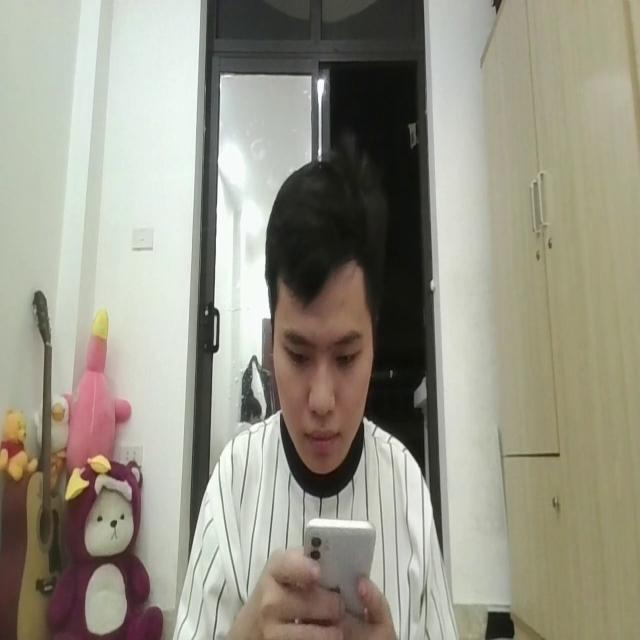phone: (296, 511, 375, 631)
student: (166, 159, 456, 640)
